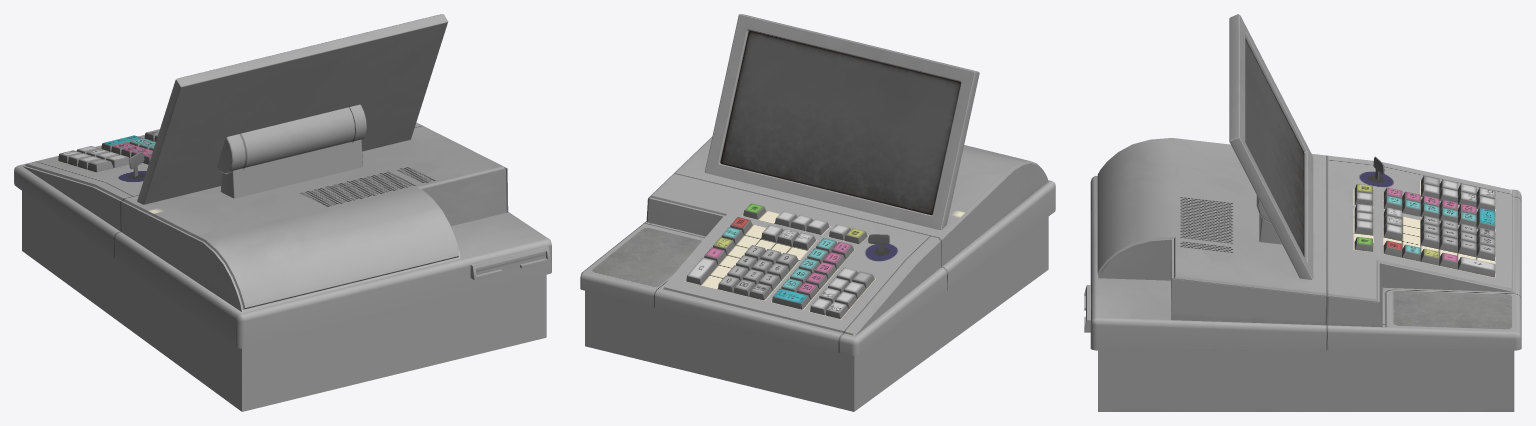
File: CashRegister.FBX
The picture shows the model from 3 angles, left to right: view 1: azimuth 30°, elevation 25°; view 2: azimuth 150°, elevation 25°; view 3: azimuth 270°, elevation 25°; orthographic projection. The views are drawn at different scales.
Visible parts, largest first — view 1: CashRegister; view 2: CashRegister; view 3: CashRegister.
Boxes of the visible parts, x1,y1,x2,y2 form: CashRegister: [14, 14, 551, 411]; CashRegister: [580, 14, 1055, 411]; CashRegister: [1084, 14, 1521, 411].
Size of the model in its own units: 33.11 by 27.72 by 42.03.
